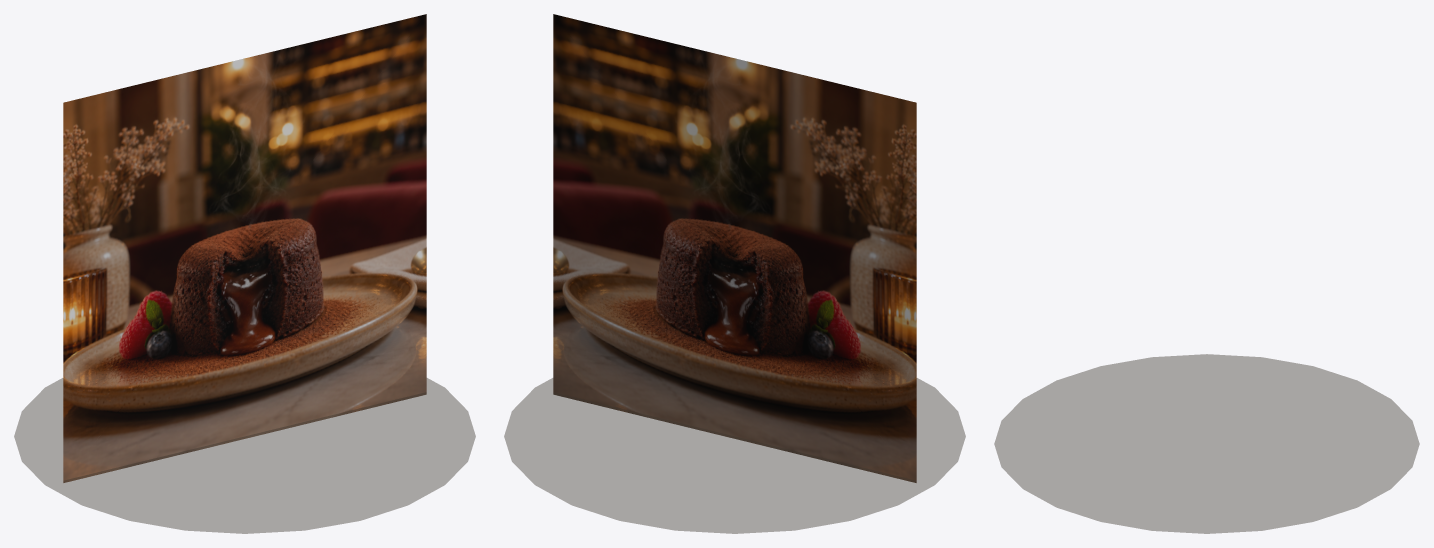
File: signature-molten-lava-cake.glb
The picture shows the model from 3 angles, left to right: view 1: azimuth 30°, elevation 25°; view 2: azimuth 150°, elevation 25°; view 3: azimuth 270°, elevation 25°; orthographic projection. The views are drawn at different scales.
Parts seen in each view (by area): view 1: ProductCard; view 2: ProductCard; view 3: ProductCard.
Boxes of the visible parts, <box> form: ProductCard: <box>14,14,475,533</box>; ProductCard: <box>504,14,965,533</box>; ProductCard: <box>994,354,1419,533</box>.
Bounding box in the file's own units: 0.198 × 0.18 × 0.198.
2 materials, 1 textured.
